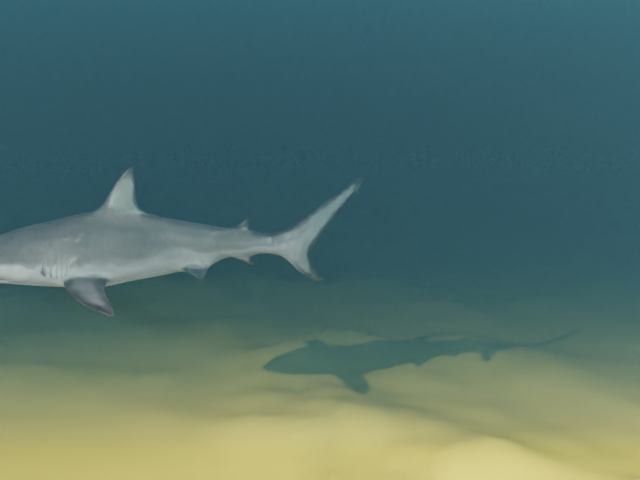Carribean Shark.001: (0, 167, 365, 316)
